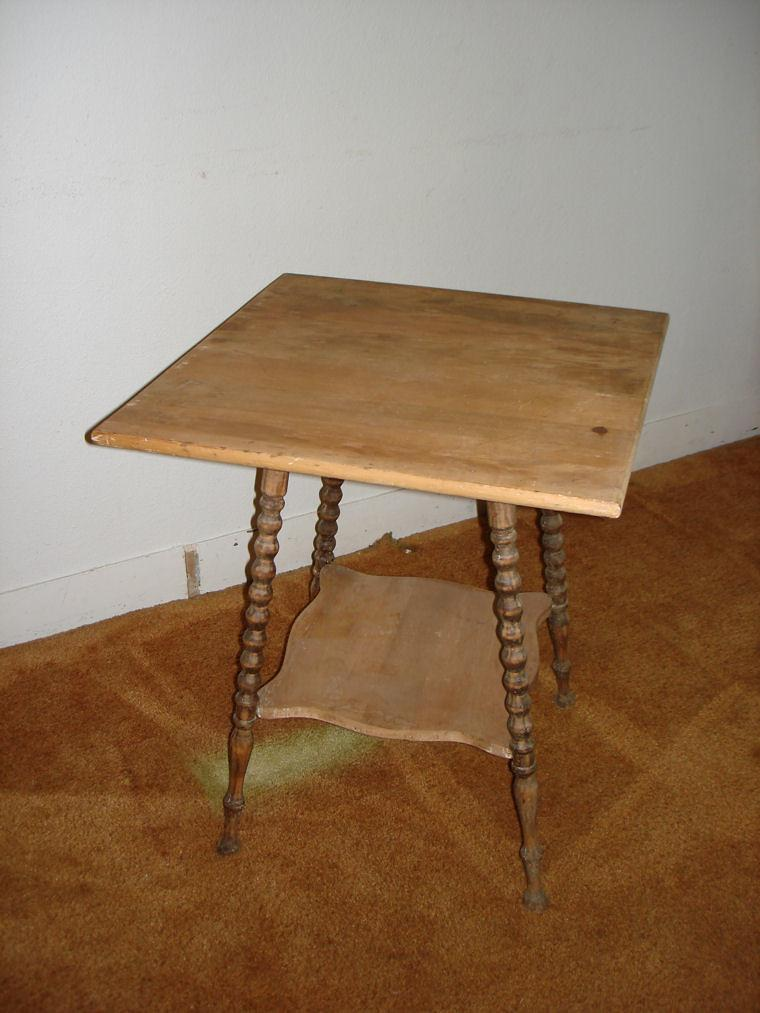table: (85, 271, 671, 914)
